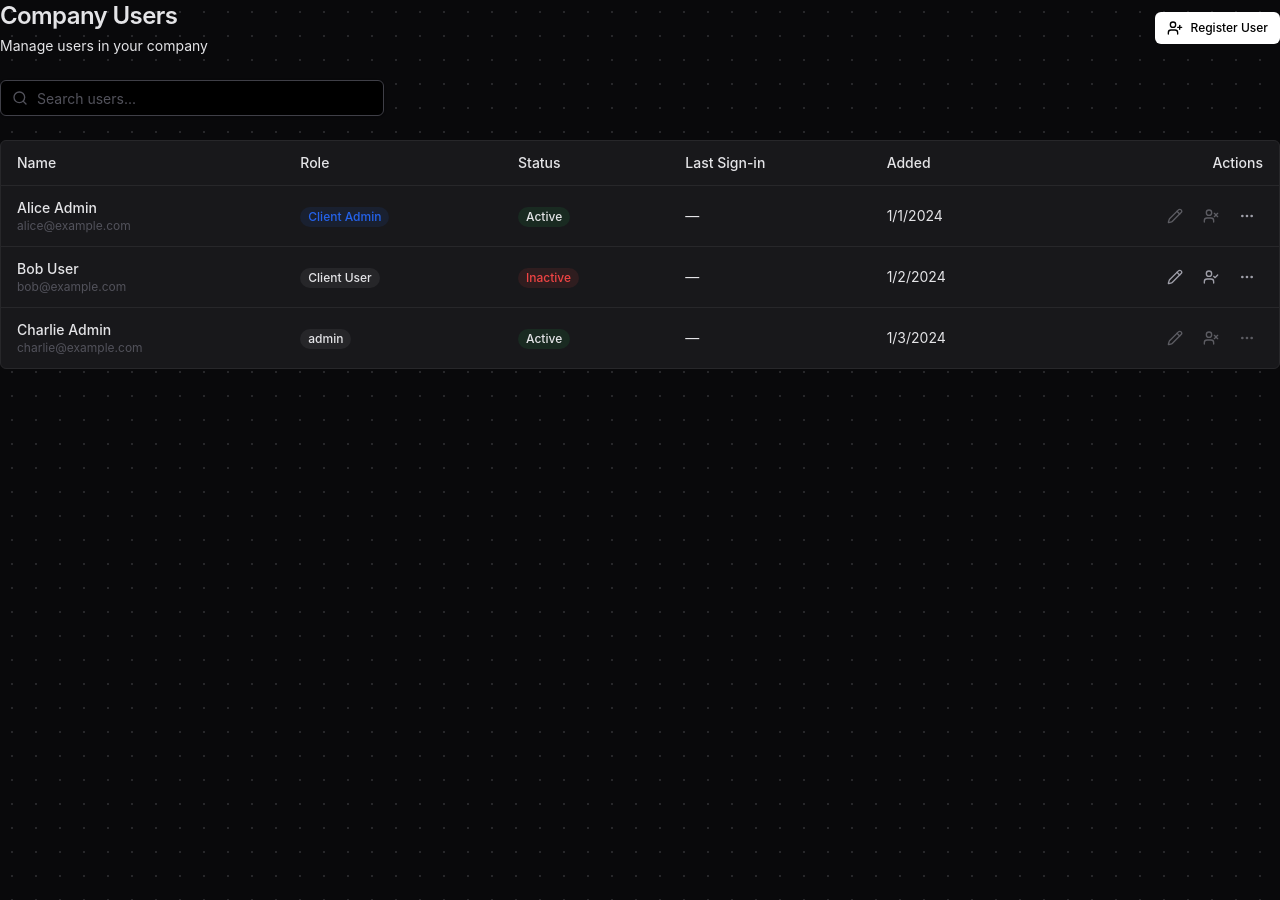
Test: T-M3-4.C.3 — Register Company User Dialog › surfaces backend error on registration failure
The width and height of the screenshot is (1280, 900).
Click the button "Register User" at (1217, 28), box [1154, 12, 1279, 44]
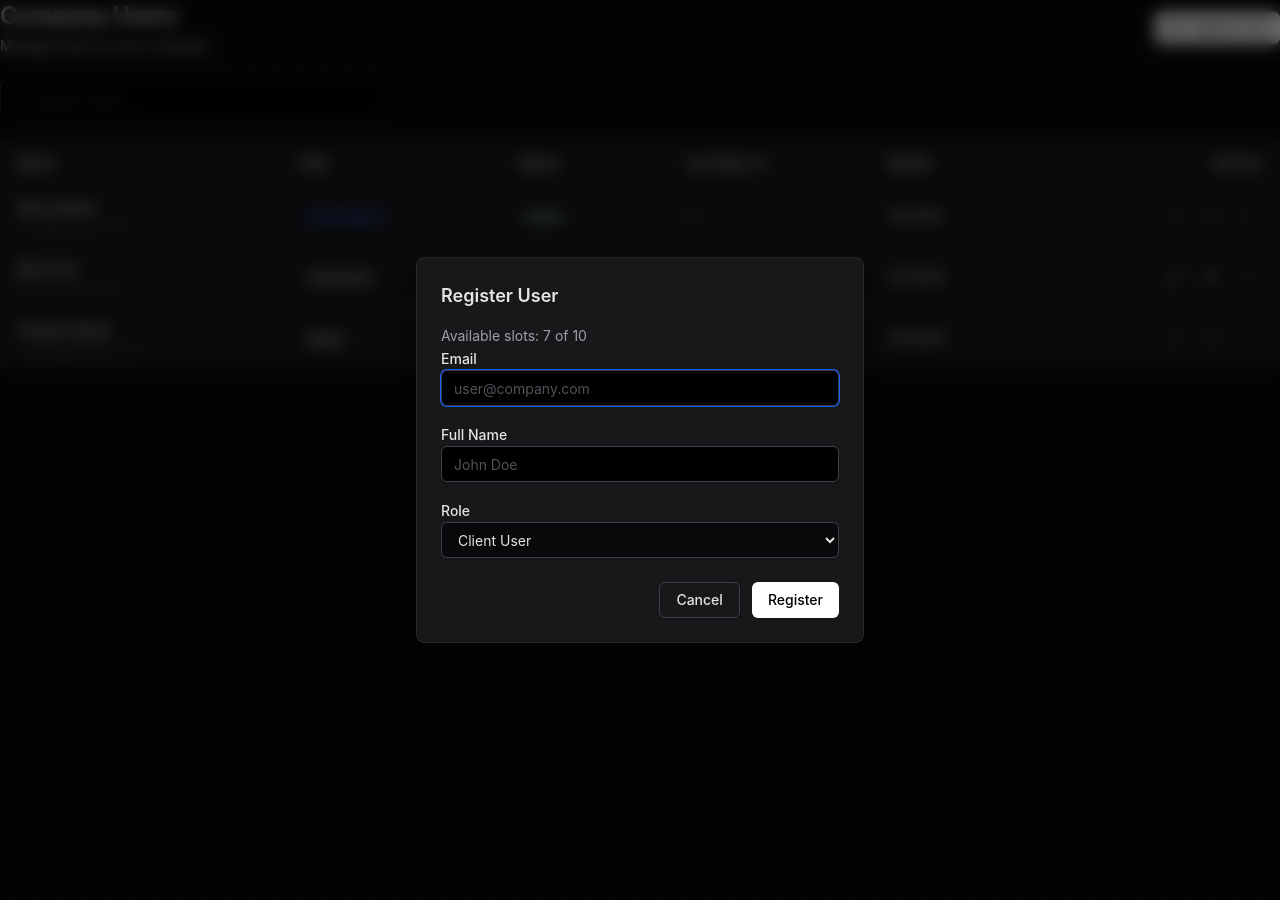
Expected: the field labelled "Email" is shown
Type "dup@example.com" into the field labelled "Email" at (640, 388), box [441, 370, 839, 406]
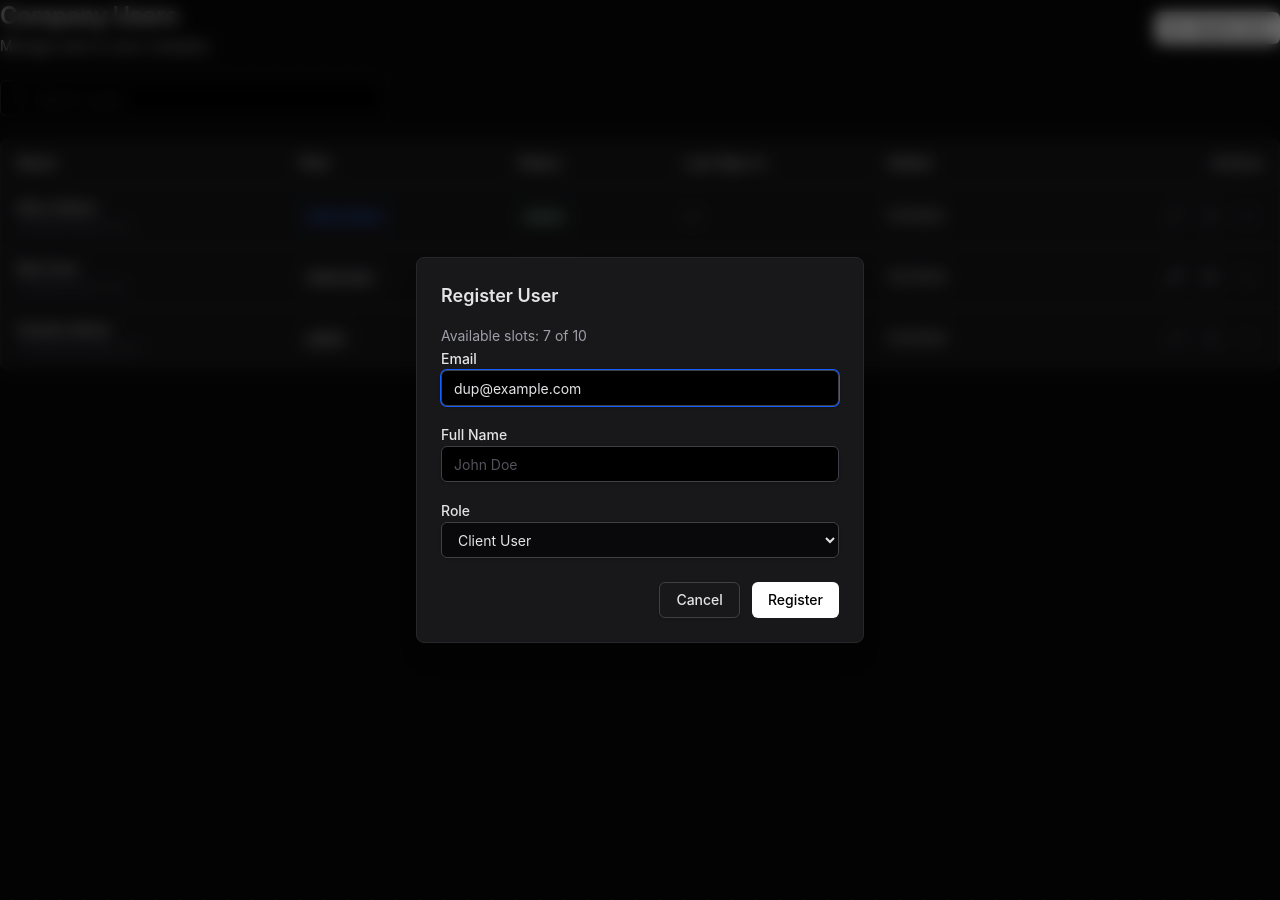
Type "Dup User" into the field labelled "Full Name" at (640, 464), box [441, 446, 839, 482]
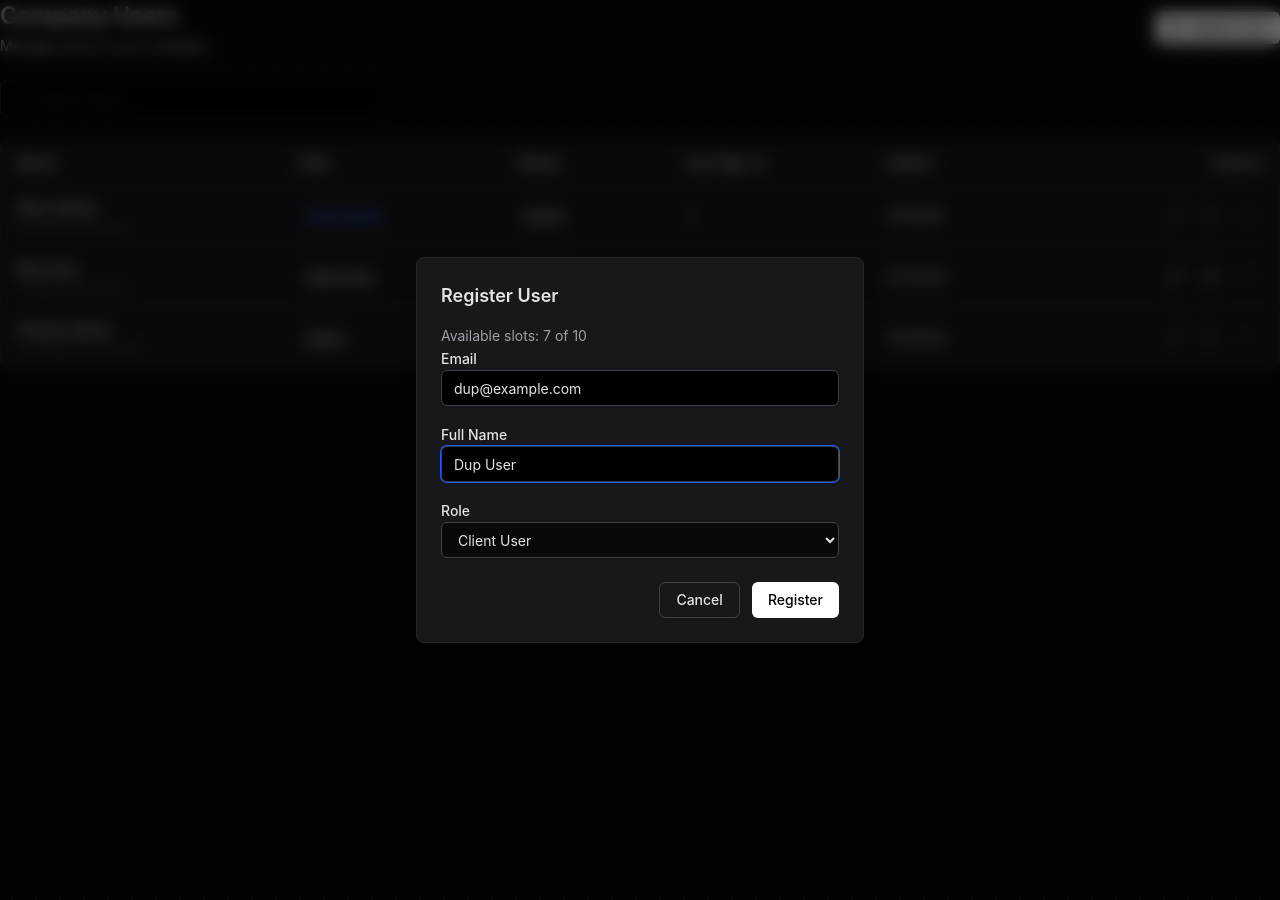
Click the button "Register" at (795, 600), box [752, 582, 839, 618]
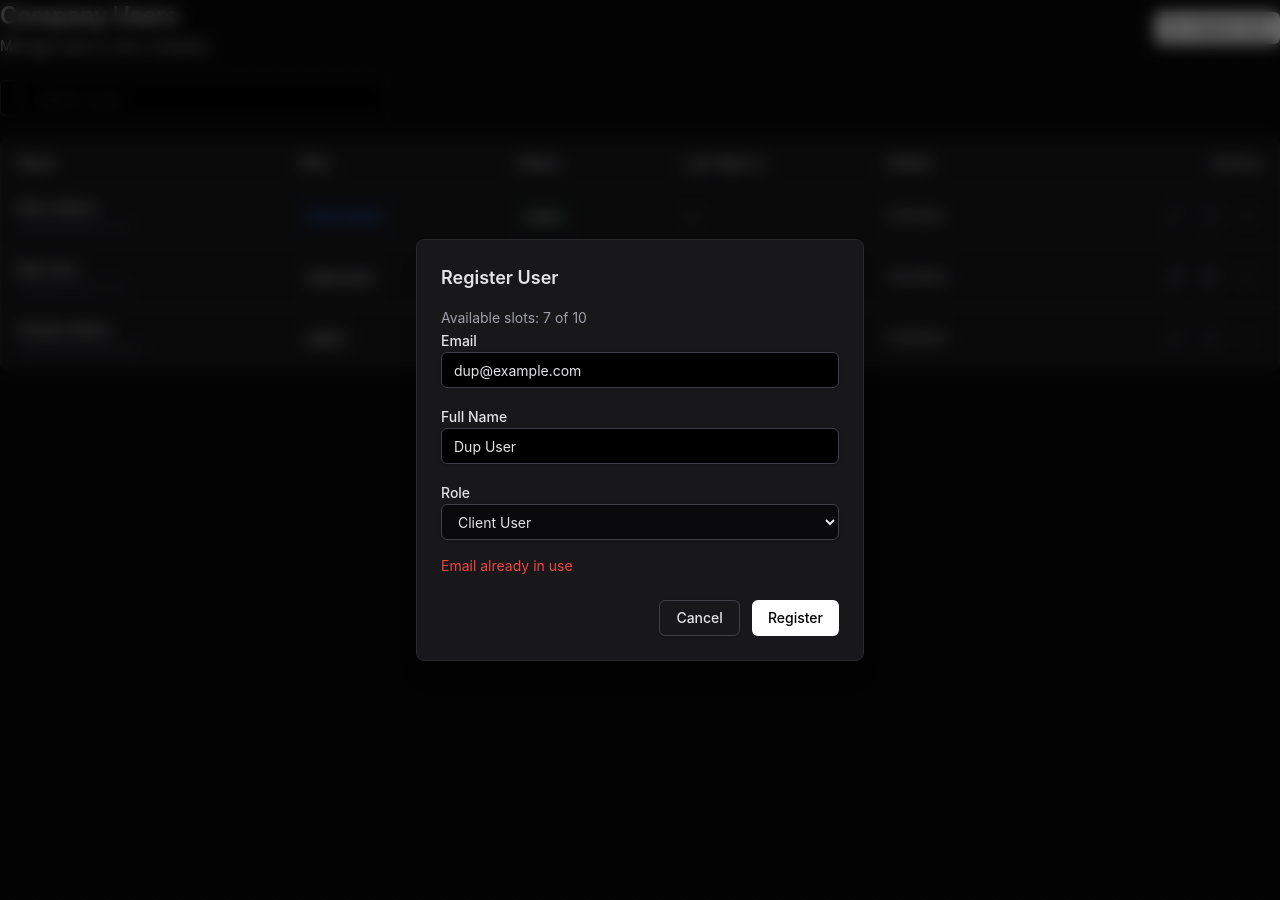
Expected: the text "Email already in use" is shown, [441, 557, 573, 574]
